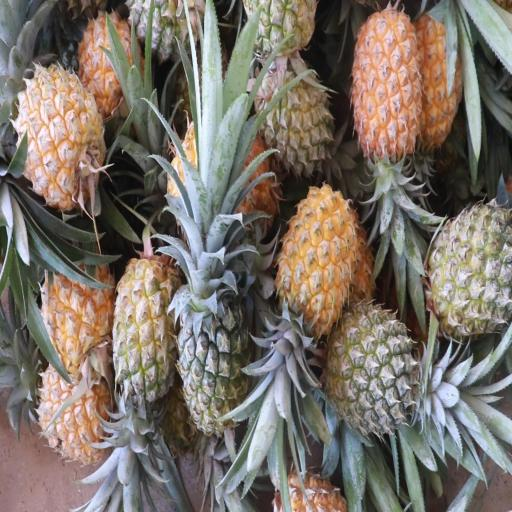------------------------------: (112, 254, 176, 426)
Pineapple - v8 v1: (352, 2, 423, 235), (279, 177, 350, 405), (10, 76, 110, 209), (36, 243, 117, 375), (417, 2, 466, 150), (78, 14, 146, 120), (36, 370, 112, 458)
